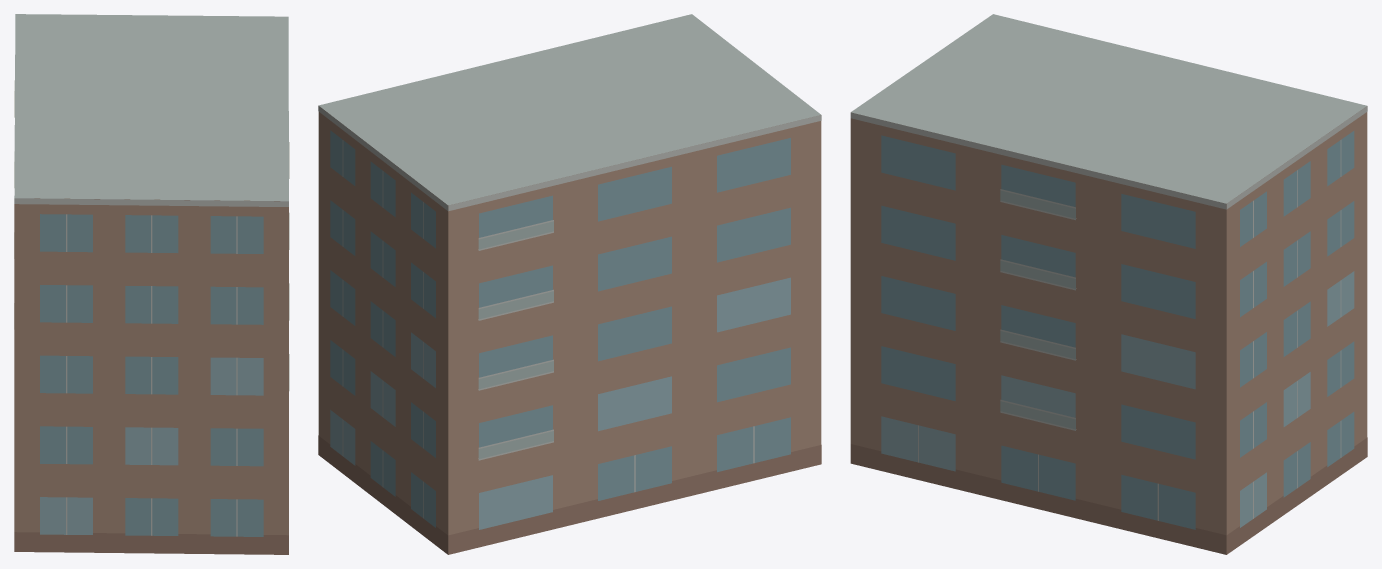
Rendered from survey-upis-32949838.glb.
3 views of the same model, side by side, from view 1: azimuth 30°, elevation 25°; view 2: azimuth 150°, elevation 25°; view 3: azimuth 270°, elevation 25° (orthographic).
Visible parts, largest first — view 1: survey-upis-32949838.tmp; view 2: survey-upis-32949838.tmp; view 3: survey-upis-32949838.tmp.
Part boxes in pixels (x1=…): survey-upis-32949838.tmp: x1=14, y1=14, x2=289, y2=554; survey-upis-32949838.tmp: x1=318, y1=14, x2=821, y2=554; survey-upis-32949838.tmp: x1=850, y1=14, x2=1367, y2=554.
Bounding box in the file's own units: 16.87 × 14.55 × 19.42.
